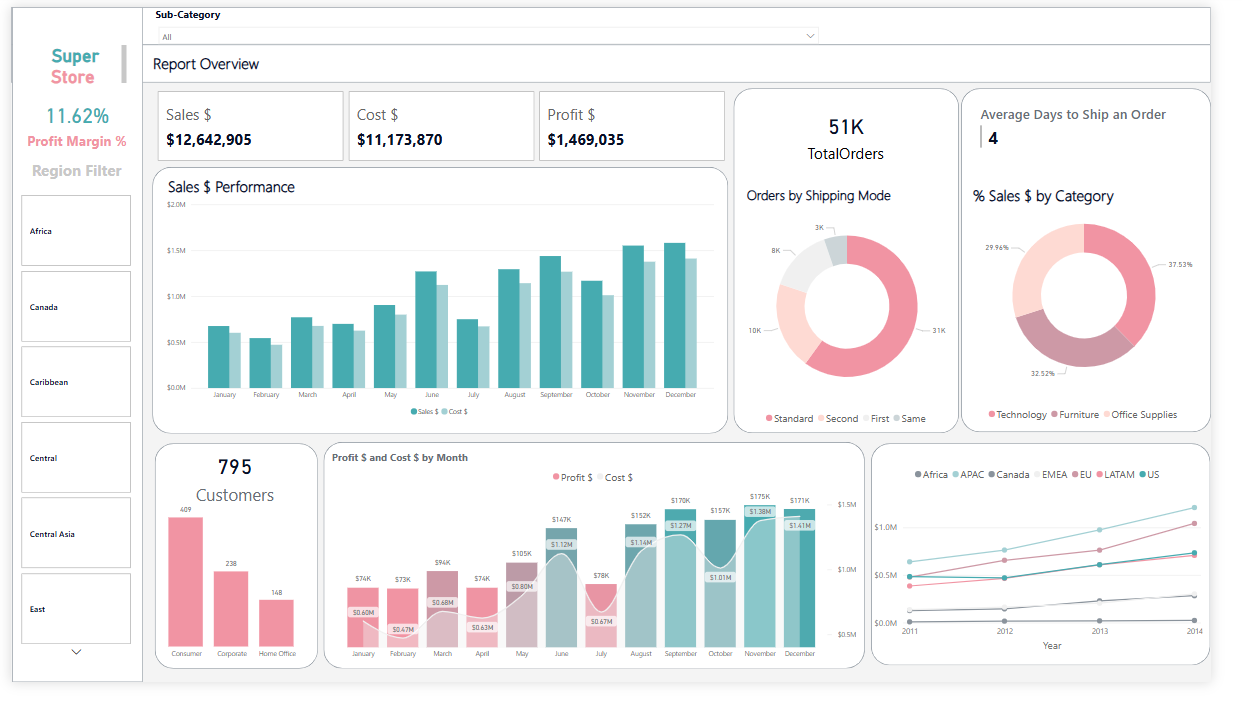

The dashboard page shown, as its layout file describes it:
{"tool":"powerbi","page":{"name":"Report","canvas":[1920,1080],"ordinal":0},"visuals":[{"type":"shape","box":[1375,698.2,542.9,355.4],"z":0},{"type":"shape","box":[226.1,256.8,921.4,426.8],"z":1000},{"type":"shape","box":[1519.7,130.4,400,550.4],"z":2000},{"type":"shape","box":[0,0,1919.6,60.9],"z":3000},{"type":"shape","box":[0,60.9,1919.6,60.9],"z":4000},{"type":"shape","box":[1.4,0,208.9,1080.4],"z":5000},{"type":"textbox","box":[222.1,67.9,269.6,44.6],"z":6000},{"type":"cardVisual","fields":{"Data":["MeasuresTable.TotalSales","MeasuresTable.Cost","MeasuresTable.TotalProfit"]},"box":[230.4,130.4,917.9,121.4],"z":7000},{"type":"clusteredColumnChart","fields":{"Category":["SuperStoreOrders.order_date.Variation.Date Hierarchy.Month"],"Y":["MeasuresTable.Sales $","MeasuresTable.Cost $"]},"box":[244.6,301.8,885.7,362.5],"z":8000},{"type":"shape","box":[230.4,698.2,261.1,360.7],"z":9000},{"type":"textbox","box":[245.7,266.1,269.6,46.4],"z":10000},{"type":"shape","box":[500,696.4,866.1,362.5],"z":11000},{"type":"shape","box":[1155.4,130.4,360.7,551.8],"z":12000},{"type":"card","fields":{"Values":["MeasuresTable.Customers"]},"box":[228.6,682.1,260.7,137.5],"z":13000},{"type":"columnChart","fields":{"Category":["SuperStoreOrders.segment"],"Y":["MeasuresTable.Customers"]},"box":[218.2,780.4,271.4,271.4],"z":14000},{"type":"lineStackedColumnComboChart","fields":{"Category":["SuperStoreOrders.order_date.Variation.Date Hierarchy.Month"],"Y":["MeasuresTable.Profit $"],"Y2":["MeasuresTable.Cost $"]},"box":[508.9,707.1,850,344.6],"z":15000},{"type":"donutChart","fields":{"Category":["SuperStoreOrders.Shipping Mode"],"Y":["MeasuresTable.TotalOrders"]},"box":[1135.4,311.4,403.6,366.1],"z":16000},{"type":"donutChart","fields":{"Category":["SuperStoreOrders.category"],"Y":["MeasuresTable.Sales $"]},"box":[1525.4,284.6,382.1,387.5],"z":17000},{"type":"card","fields":{"Values":["MeasuresTable.TotalOrders"]},"box":[1200,146.4,271.4,119.6],"z":18000},{"type":"textbox","box":[1171.4,280.4,344.6,42.9],"z":19000},{"type":"textbox","box":[1533.9,280.4,353.6,42.9],"z":20000},{"type":"multiRowCard","title":"Average Days to Ship an Order","fields":{"Values":["MeasuresTable.Average Days to Ship an Order"]},"box":[1546.4,155.4,344.6,78.6],"z":21000},{"type":"card","fields":{"Values":["MeasuresTable.Profit Margin %"]},"box":[3.6,130,203.6,112.5],"z":22000},{"type":"lineChart","fields":{"Y":["MeasuresTable.Sales $"],"Category":["SuperStoreOrders.order_date.Variation.Date Hierarchy.Year","SuperStoreOrders.order_date.Variation.Date Hierarchy.Quarter","SuperStoreOrders.order_date.Variation.Date Hierarchy.Month","SuperStoreOrders.order_date.Variation.Date Hierarchy.Day"],"Series":["SuperStoreOrders.market"]},"box":[1375,725,535.7,310.7],"z":23000},{"type":"advancedSlicerVisual","title":"Region Filter","fields":{"Values":["SuperStoreOrders.region"]},"box":[12.9,244.6,185.7,803.6],"z":24000},{"type":"textbox","box":[23.3,56.7,165.6,73.3],"z":25000},{"type":"slicer","title":"Sub-Category","fields":{"Values":["SuperStoreOrders.sub_category"]},"box":[226,0,1076,68],"z":26000}]}

Visuals, with their boxes in screenshot pixels (x1, y1, x2, y2), scaled from the page's 1920x1080 canvas onto the 1242x708 screenshot:
shape: BBox(889, 458, 1241, 691)
shape: BBox(146, 168, 742, 448)
shape: BBox(983, 85, 1241, 446)
shape: BBox(0, 0, 1241, 40)
shape: BBox(0, 40, 1241, 80)
shape: BBox(1, 0, 136, 707)
textbox: BBox(144, 45, 318, 74)
cardVisual - MeasuresTable.TotalSales x MeasuresTable.Cost: BBox(149, 85, 743, 165)
clusteredColumnChart - SuperStoreOrders.order_date.Variation.Date Hierarchy.Month x MeasuresTable.Sales $: BBox(158, 198, 731, 435)
shape: BBox(149, 458, 318, 694)
textbox: BBox(159, 174, 333, 205)
shape: BBox(323, 457, 884, 694)
shape: BBox(747, 85, 981, 447)
card - MeasuresTable.Customers: BBox(148, 447, 317, 537)
columnChart - SuperStoreOrders.segment x MeasuresTable.Customers: BBox(141, 512, 317, 690)
lineStackedColumnComboChart - SuperStoreOrders.order_date.Variation.Date Hierarchy.Month x MeasuresTable.Profit $: BBox(329, 464, 879, 689)
donutChart - SuperStoreOrders.Shipping Mode x MeasuresTable.TotalOrders: BBox(734, 204, 996, 444)
donutChart - SuperStoreOrders.category x MeasuresTable.Sales $: BBox(987, 187, 1234, 441)
card - MeasuresTable.TotalOrders: BBox(776, 96, 952, 174)
textbox: BBox(758, 184, 981, 212)
textbox: BBox(992, 184, 1221, 212)
"Average Days to Ship an Order" multiRowCard: BBox(1000, 102, 1223, 153)
card - MeasuresTable.Profit Margin %: BBox(2, 85, 134, 159)
lineChart - MeasuresTable.Sales $ x SuperStoreOrders.order_date.Variation.Date Hierarchy.Year: BBox(889, 475, 1236, 679)
"Region Filter" advancedSlicerVisual: BBox(8, 160, 128, 687)
textbox: BBox(15, 37, 122, 85)
"Sub-Category" slicer: BBox(146, 0, 842, 45)
